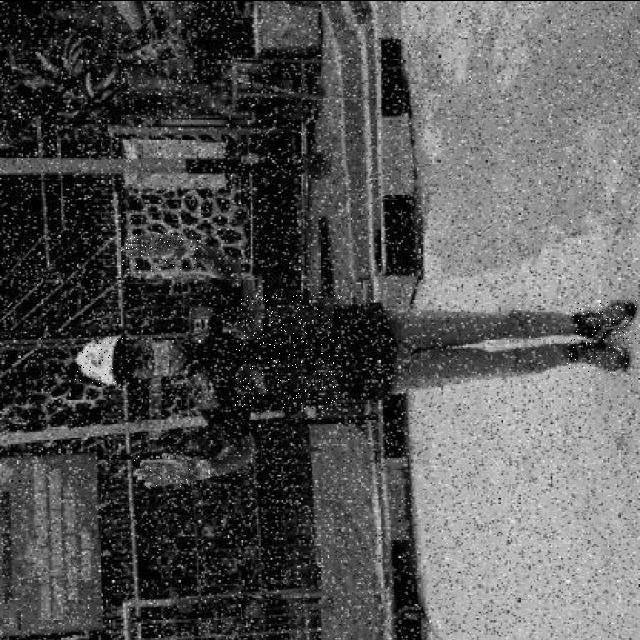boots: (572, 299, 637, 339), (565, 339, 630, 373)
helmet: (75, 334, 123, 386)
vest: (234, 294, 343, 408)
